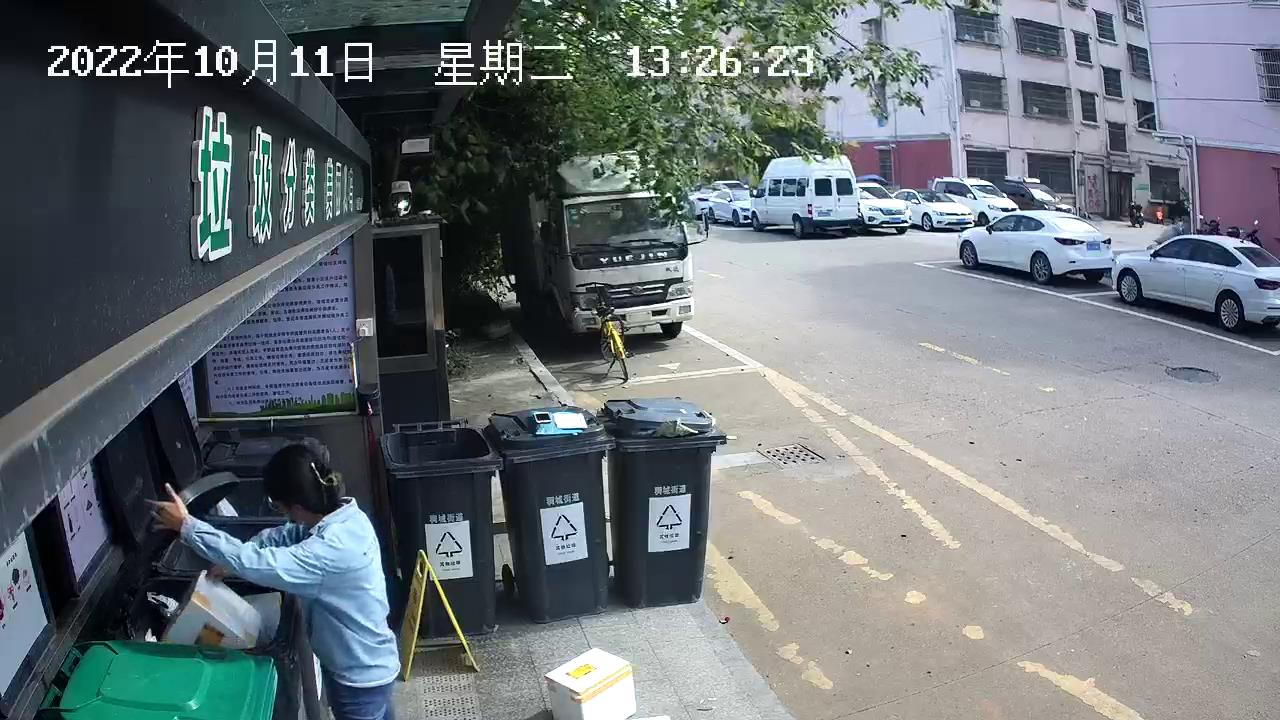worker: (138, 437, 409, 720)
zhizhipin: (541, 642, 641, 718)
